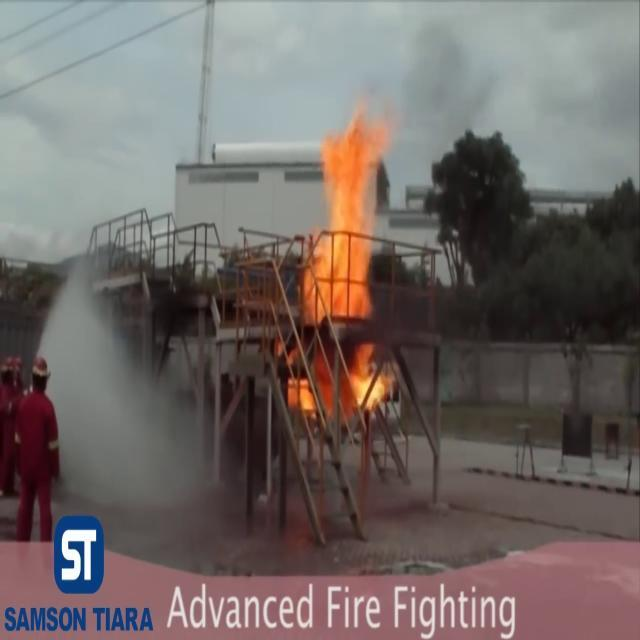Fire: (286, 116, 402, 416)
